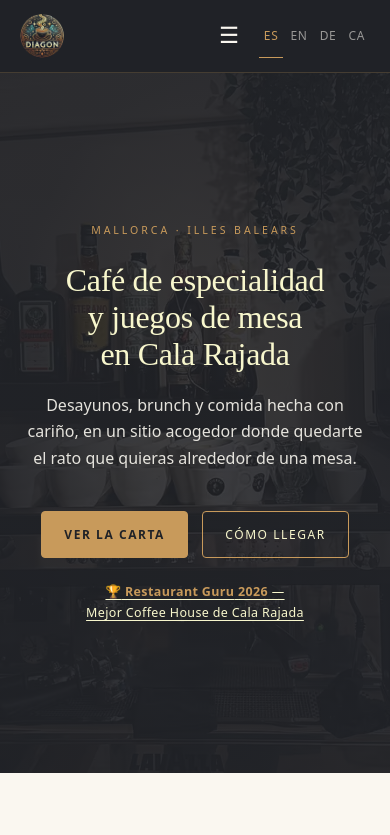
menu movil › empieza cerrado y se abre al pulsar
Click the button named "Abrir menú": (229, 36) [207,14,251,58]
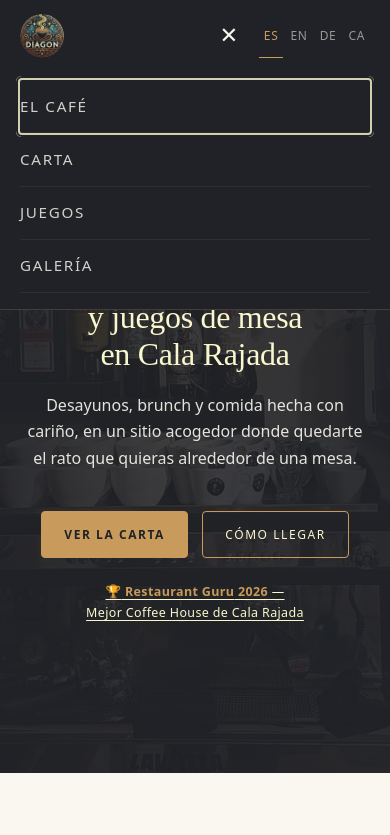
Expected: the button named "Cerrar menú" is expanded, [207,14,251,58]
